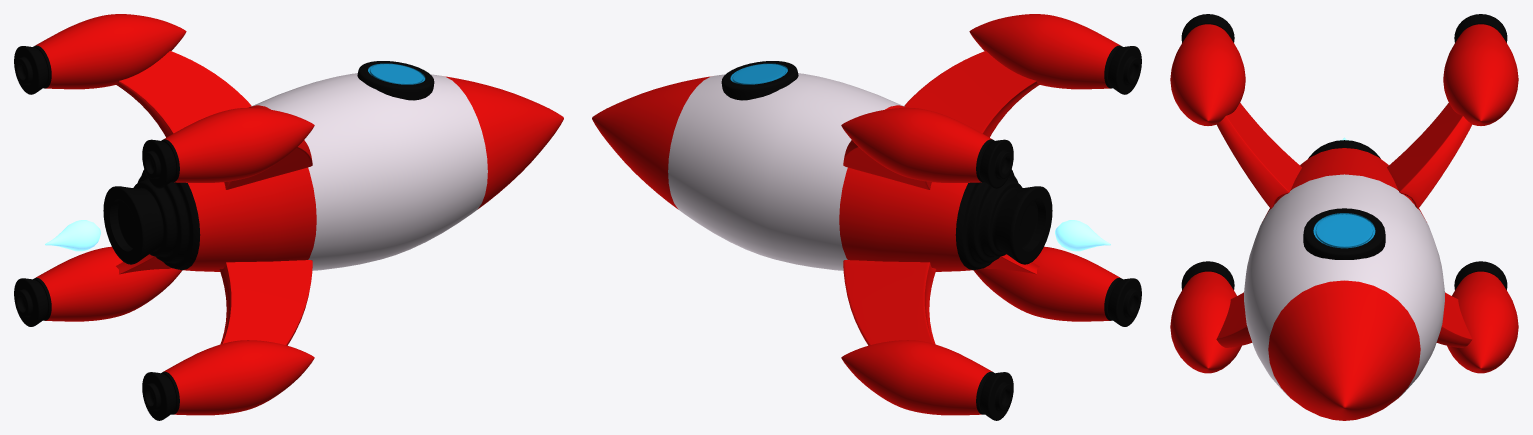
File: space_rocket.glb
3 renders of one model, left to right at view 1: azimuth 30°, elevation 25°; view 2: azimuth 150°, elevation 25°; view 3: azimuth 270°, elevation 25°, orthographic. The views are drawn at different scales.
Parts seen in each view (by area): view 1: Circle_2, Circle.003_5, Circle.001_3, Circle.007_9, Circle.005_7, Circle.004_6, Circle.008_10, Cylinder_11, Circle.002_4, Circle, Circle.006_8; view 2: Circle_2, Circle.005_7, Circle.007_9, Circle.001_3, Circle.003_5, Circle.006_8, Circle.002_4, Cylinder_11, Circle.008_10, Circle, Circle.004_6; view 3: Circle_2, Circle.007_9, Circle.001_3, Circle.005_7, Circle.003_5, Circle.008_10, Circle.002_4, Cylinder_11, Circle.004_6, Circle.006_8.
Boxes of the visible parts, x1,y1,x2,y2 form: Circle_2: (103, 73, 563, 271); Circle.003_5: (142, 340, 314, 420); Circle.001_3: (142, 107, 314, 188); Circle.007_9: (14, 14, 186, 94); Circle.005_7: (14, 246, 182, 326); Circle.004_6: (219, 260, 312, 345); Circle.008_10: (116, 51, 251, 137); Cylinder_11: (357, 61, 434, 100); Circle.002_4: (224, 140, 312, 189); Circle: (45, 220, 100, 251); Circle.006_8: (116, 254, 171, 274); Circle_2: (592, 73, 1052, 271); Circle.005_7: (841, 340, 1013, 420); Circle.007_9: (841, 107, 1013, 188); Circle.001_3: (969, 14, 1141, 94); Circle.003_5: (973, 246, 1141, 326); Circle.006_8: (843, 260, 936, 345); Circle.002_4: (904, 51, 1039, 137); Cylinder_11: (721, 61, 798, 100); Circle.008_10: (843, 140, 931, 189); Circle: (1055, 220, 1110, 251); Circle.004_6: (984, 254, 1039, 274); Circle_2: (1244, 140, 1444, 420); Circle.007_9: (1443, 14, 1518, 125); Circle.001_3: (1170, 14, 1245, 125); Circle.005_7: (1447, 261, 1518, 373); Circle.003_5: (1170, 261, 1241, 373); Circle.008_10: (1387, 103, 1472, 208); Circle.002_4: (1216, 102, 1301, 208); Cylinder_11: (1303, 208, 1385, 259); Circle.004_6: (1216, 292, 1252, 347); Circle.006_8: (1436, 292, 1472, 347).
Bounding box in the file's own units: 2.5 × 1.37 × 1.37.
